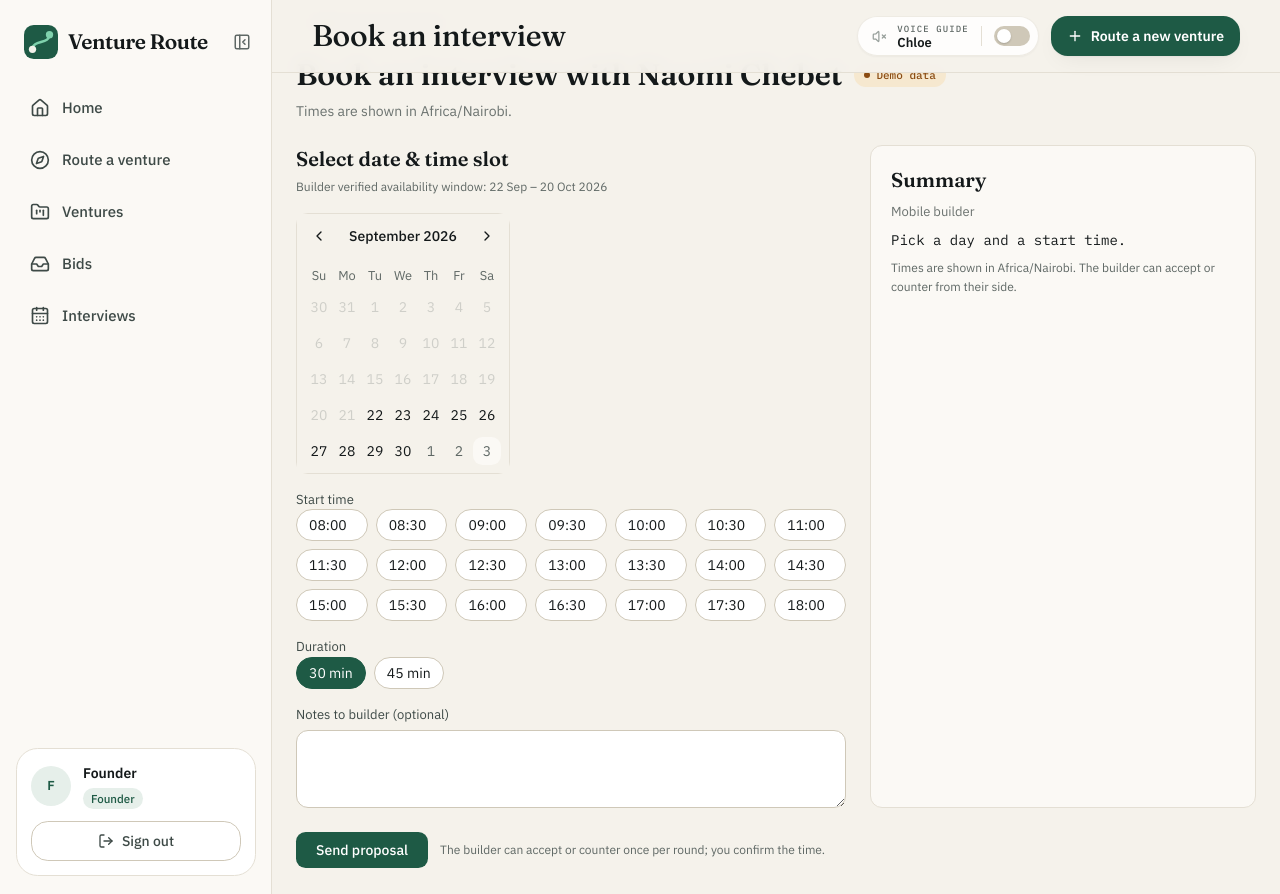
Test: /bookings/new › needs a day and a start before sending, and renders a 422 reason inline
(page scrolled)
Expected: the heading "Book an interview with Naomi Chebet" is shown, [296,57,842,93]
Step 1. Click the button "Send proposal" → (362, 850), box [296,832,428,868]
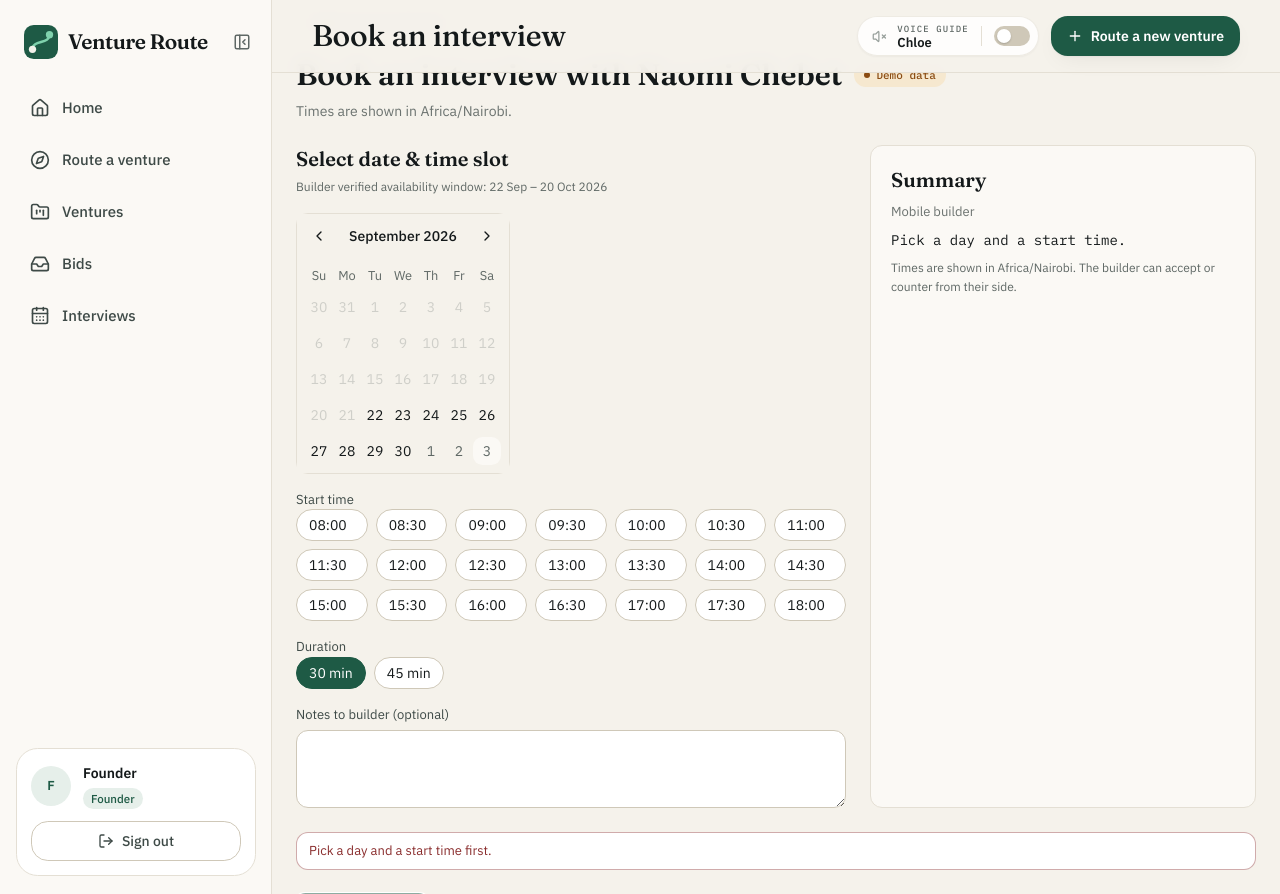
Now the message reads "Pick a day and a start time first.", box [309,842,492,859]
Step 2. Click the button named "September 24th, 2026" → (431, 415), box [417,401,445,429]
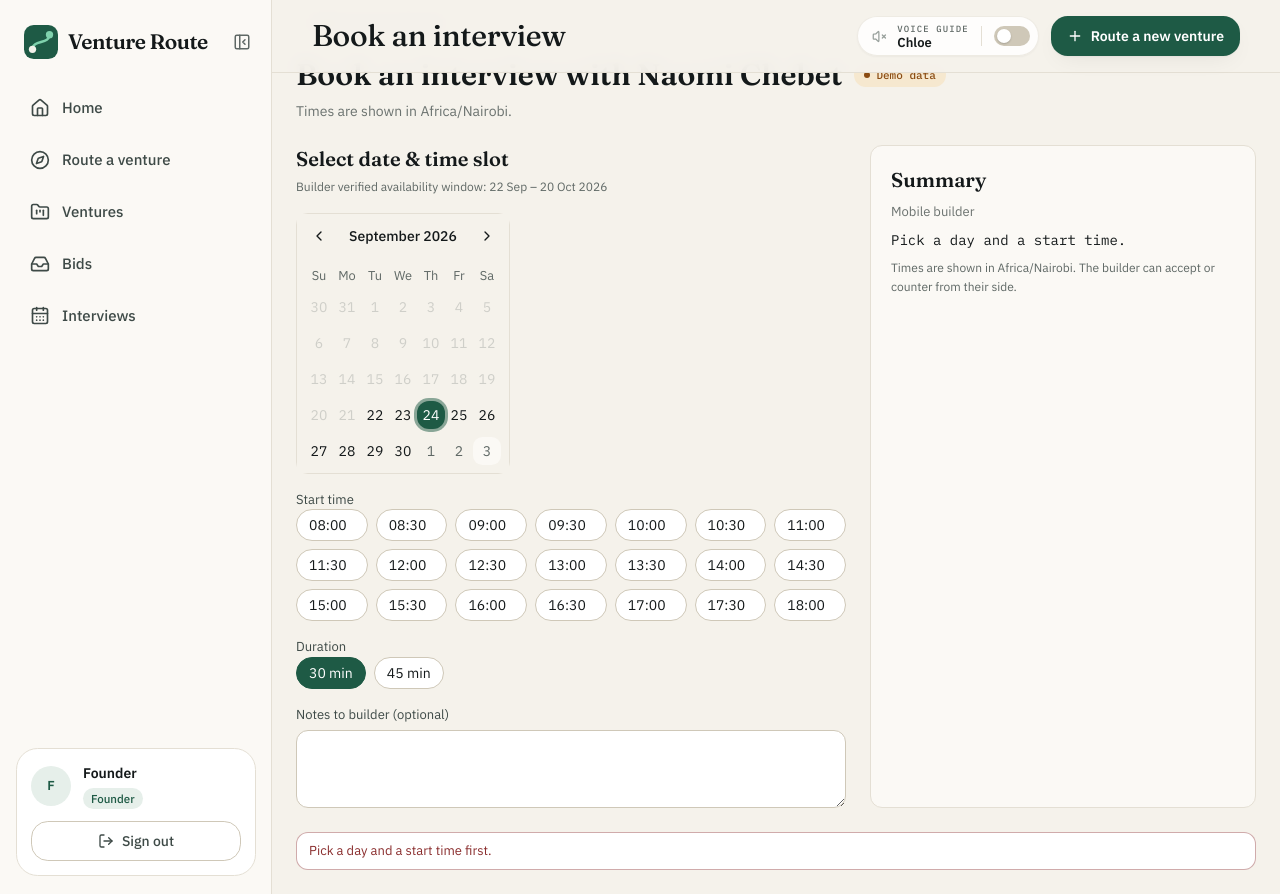
Step 3. Click the radio button named "08:00 EAT" → (332, 525), box [296,509,368,541]
(page scrolled)
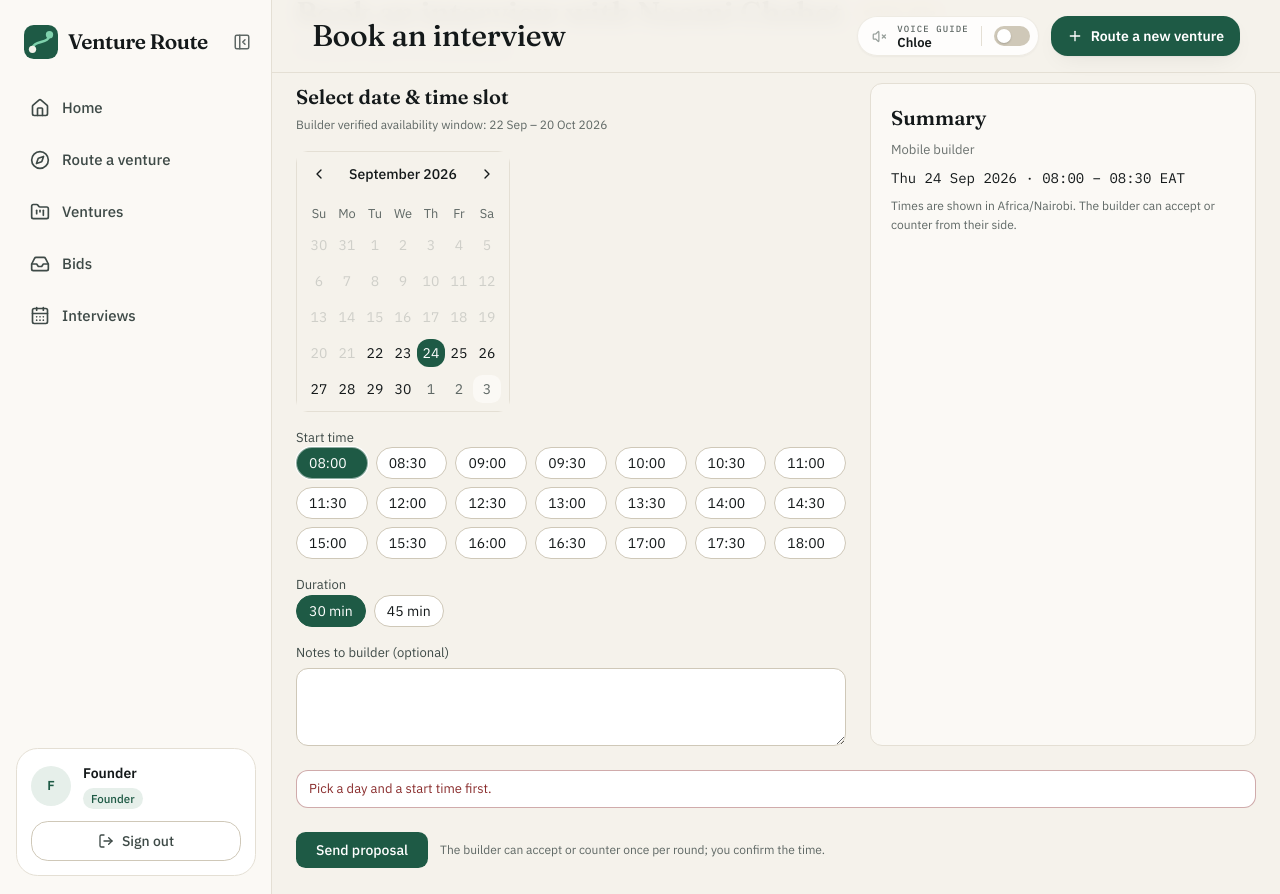
Step 4. Click the button "Send proposal" → (362, 850), box [296,832,428,868]
(page scrolled)
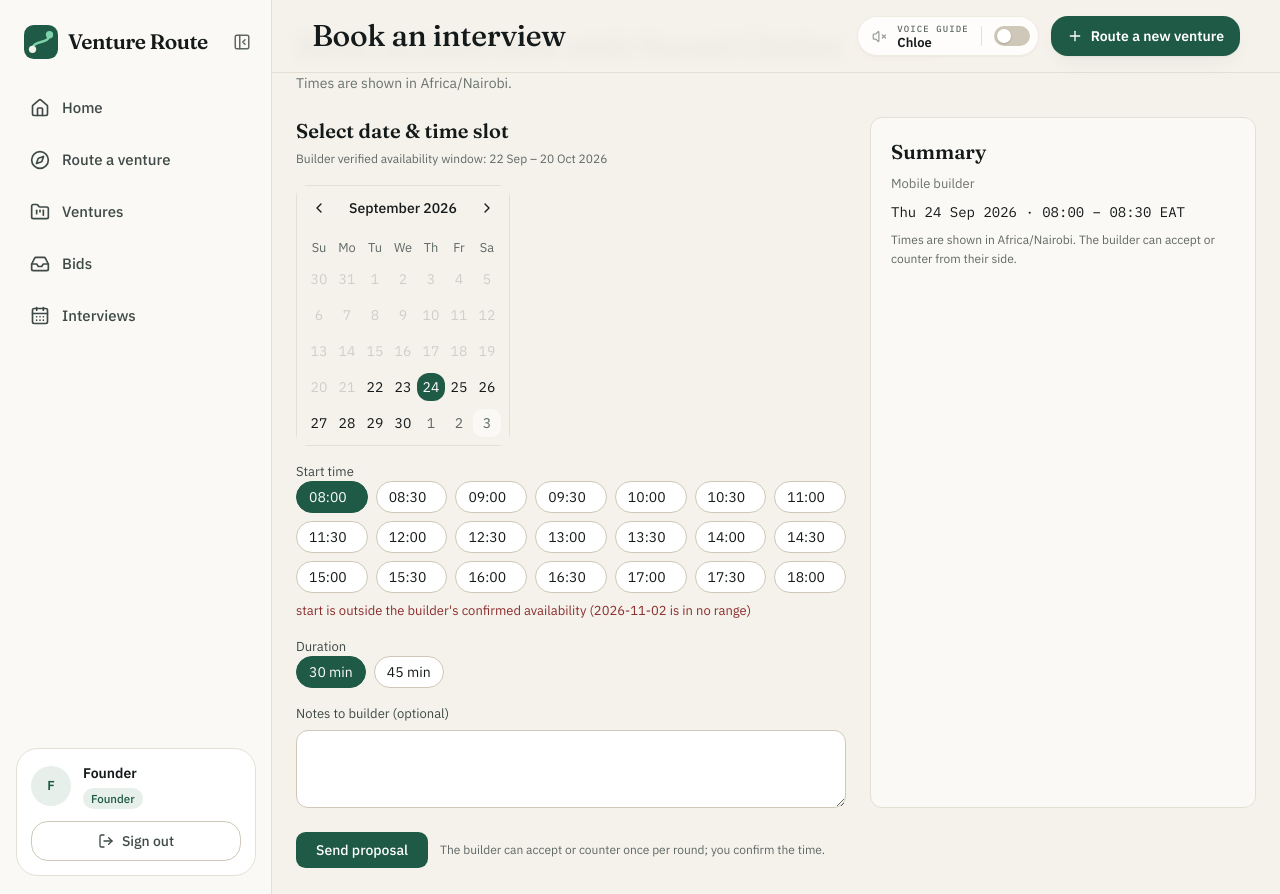
Now the message shows "start is outside the builder's confirmed availability (2026-11-02 is in no range)", box [296,602,751,619]
